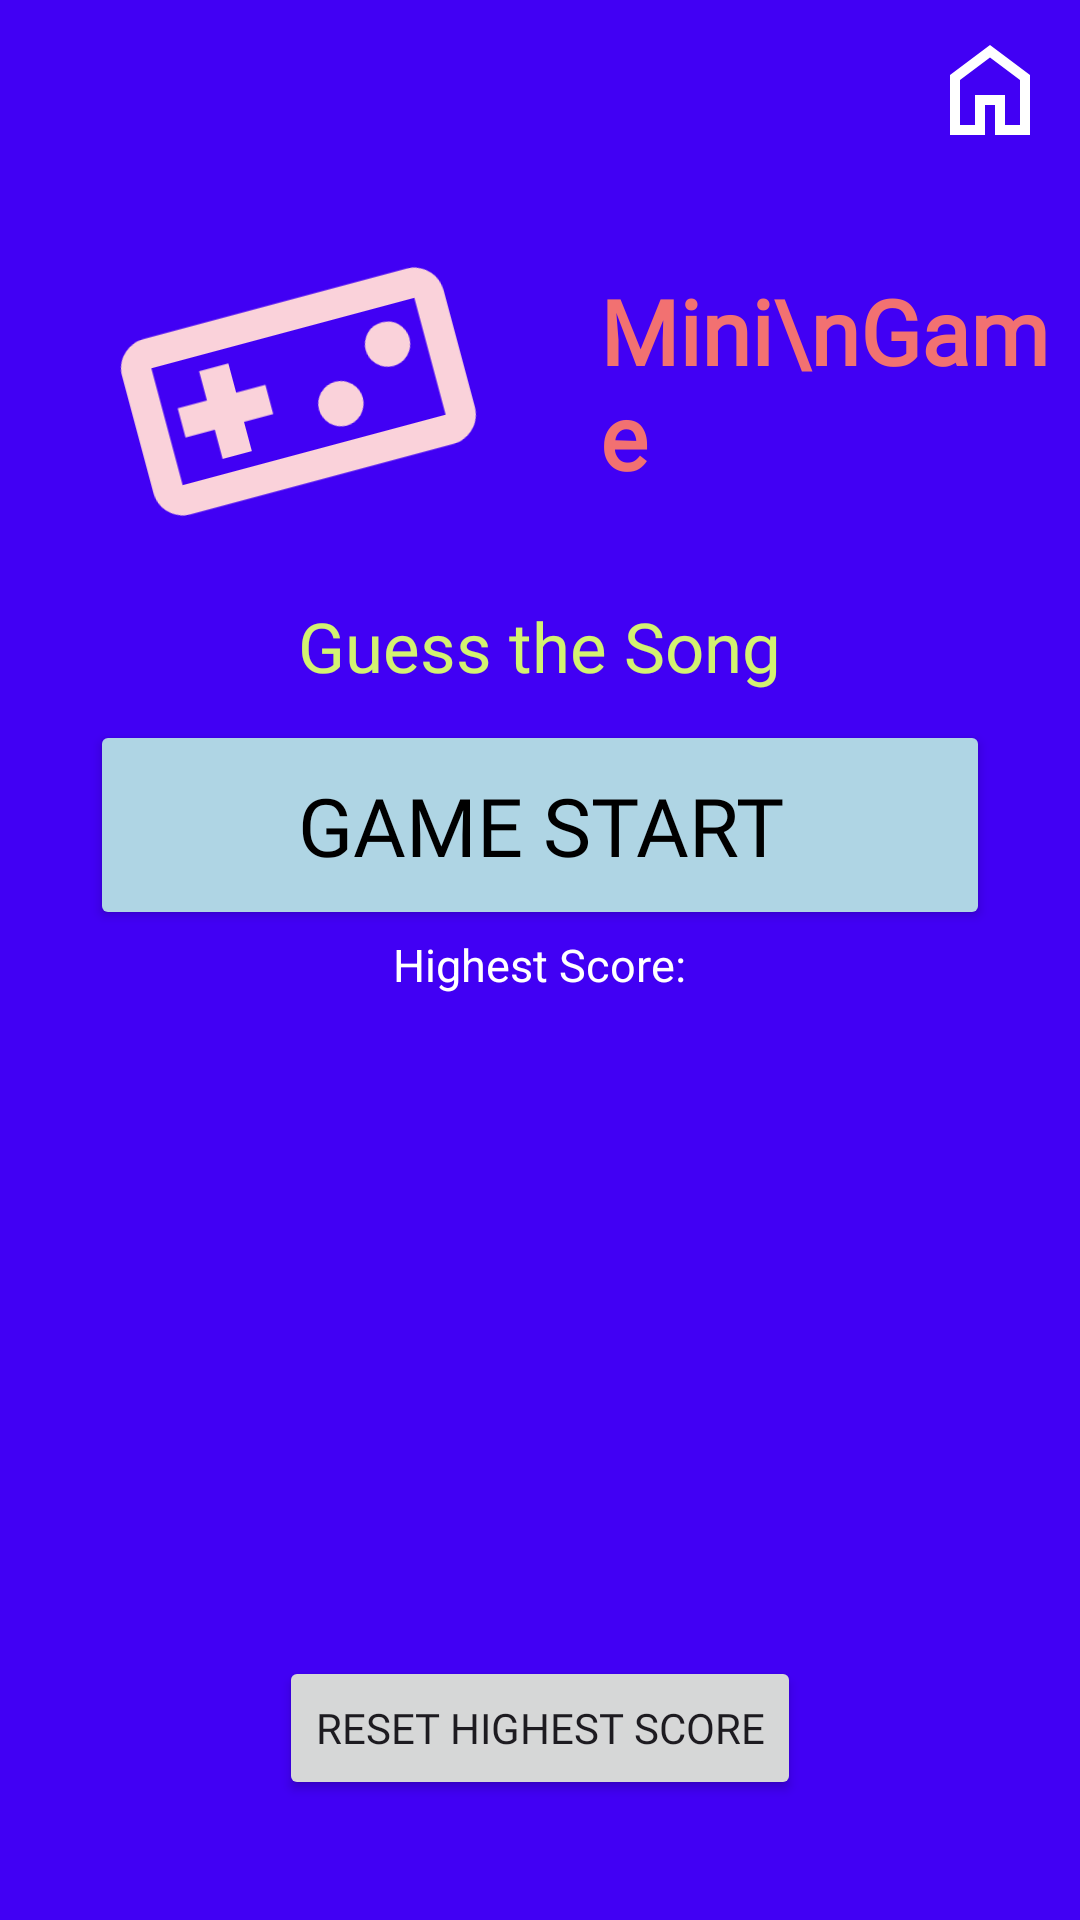

Named icons in this screenshot (1080px x 1920px) and their bounding boxes, (x1, y1, x2, y2):
home: (950, 45, 1030, 135)
